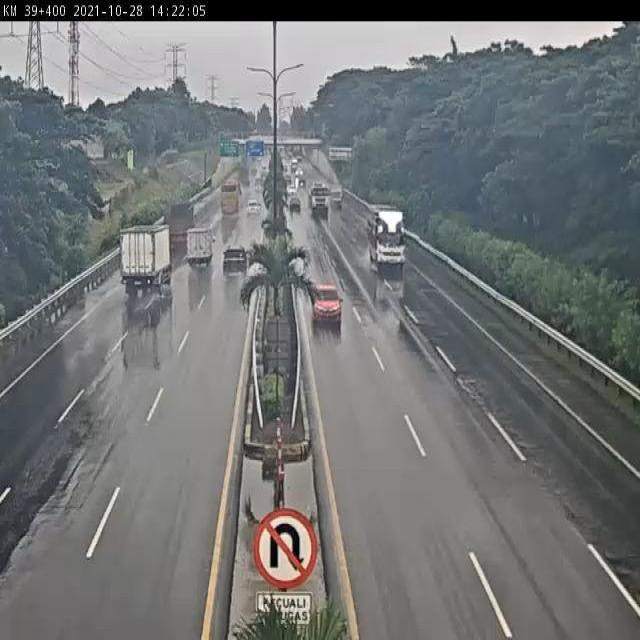big bus: (218, 182, 243, 218)
car: (313, 284, 343, 327), (220, 244, 250, 277)
truck-l-: (118, 219, 174, 296), (366, 199, 410, 268), (165, 202, 197, 250)
truck-s-: (187, 227, 215, 270)
truck-xl-: (309, 179, 331, 213)
